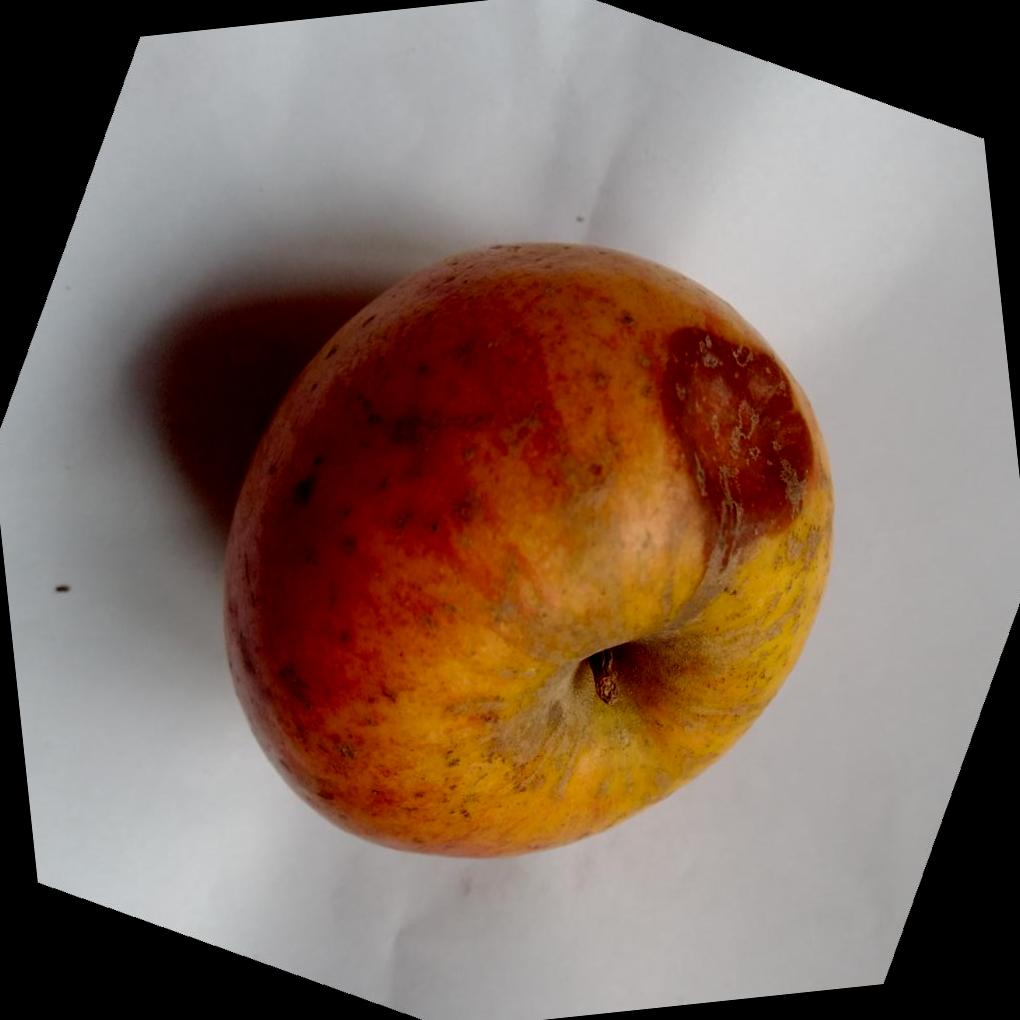FreshOrange: (216, 239, 833, 861)
